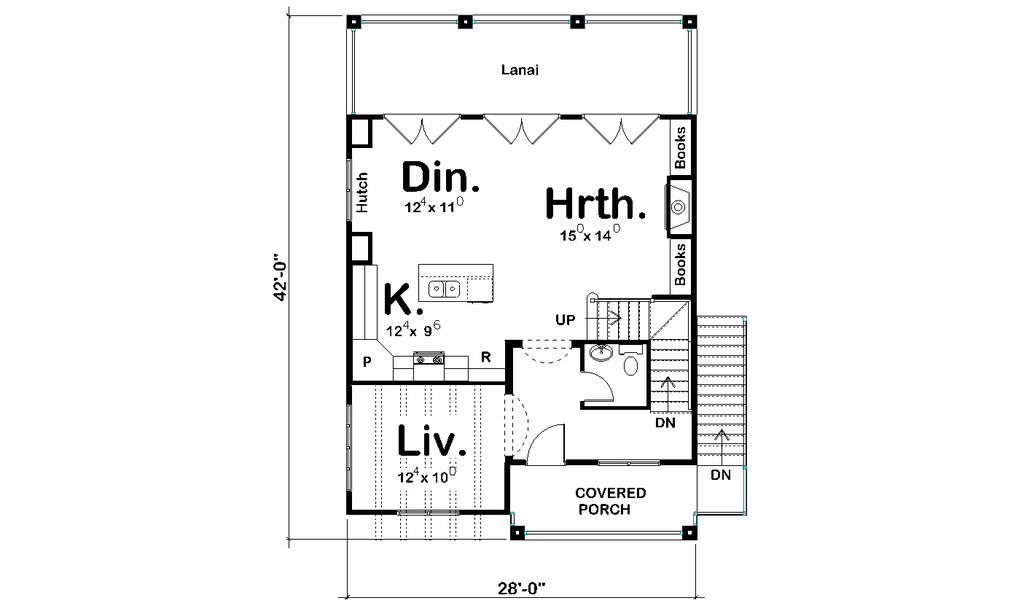door: (380, 111, 461, 146), (582, 109, 659, 144), (484, 110, 559, 145), (523, 421, 568, 466), (579, 369, 618, 404)
kitchen_bar: (415, 262, 495, 307)
large_sink: (617, 345, 645, 377)
small_sink: (582, 346, 614, 365)
stairs: (694, 311, 749, 515), (580, 294, 693, 342), (652, 339, 693, 430)
windows: (341, 155, 357, 221), (343, 398, 353, 496), (595, 456, 661, 469)
